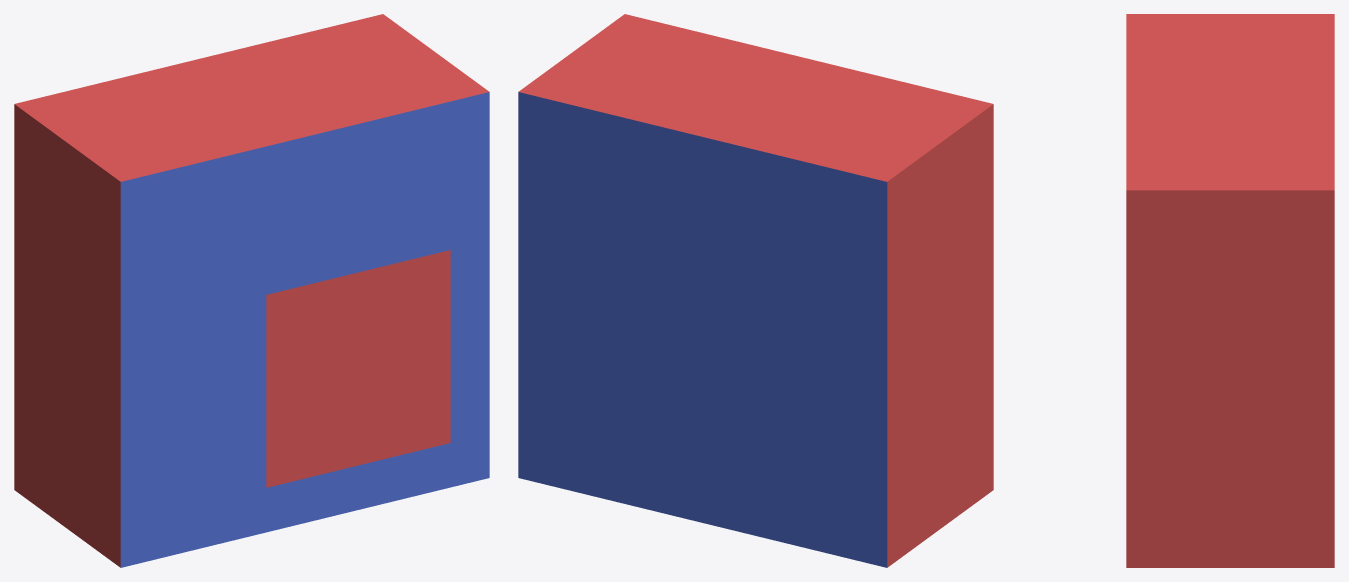
Rendered from target.glb.
3 views of the same model, side by side, from view 1: azimuth 30°, elevation 25°; view 2: azimuth 150°, elevation 25°; view 3: azimuth 270°, elevation 25° (orthographic). The views are drawn at different scales.
Visible parts, largest first — view 1: body, lid; view 2: body; view 3: body.
Part boxes in pixels (bbox=[...]): body: bbox=[14, 14, 489, 567]; lid: bbox=[266, 250, 450, 487]; body: bbox=[518, 14, 993, 567]; body: bbox=[1126, 14, 1334, 567].
Size of the model in its own units: 2 by 2 by 1.5.
